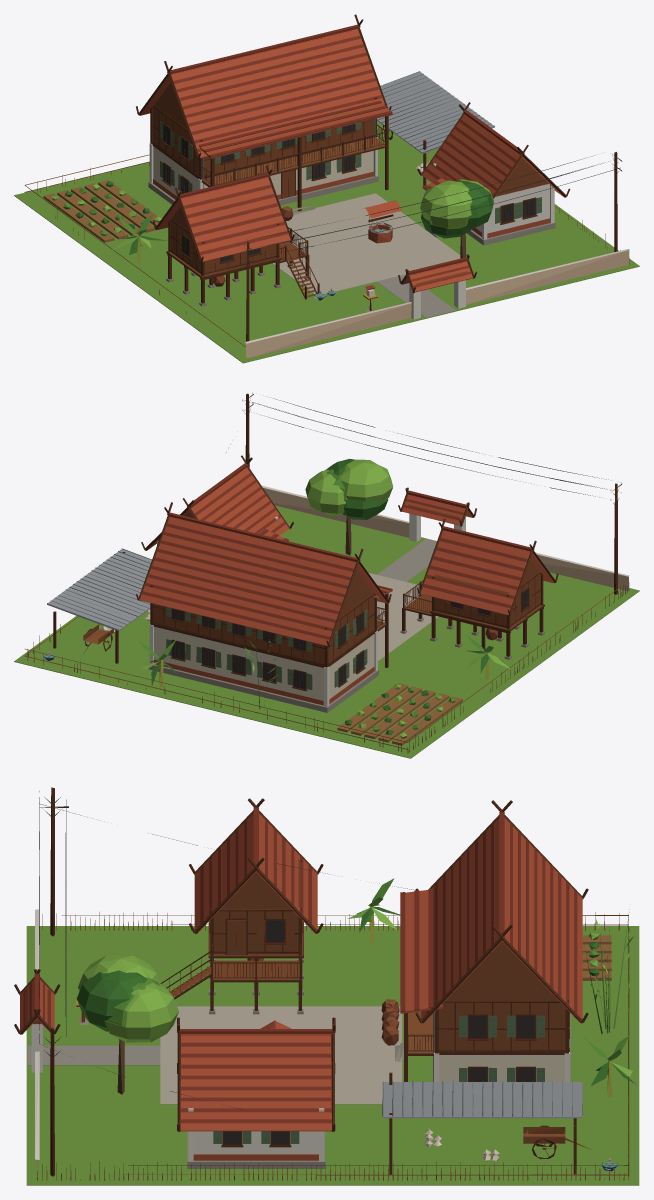
File: home_5.glb
3 views of the same model, one above another, from view 1: azimuth 30°, elevation 25°; view 2: azimuth 150°, elevation 25°; view 3: azimuth 270°, elevation 25° (orthographic). The views are drawn at different scales.
Visible parts, largest first — view 1: body, windows; view 2: body, windows; view 3: body, windows.
Boxes of the visible parts, x1,y1,x2,y2 form: body: [14, 14, 639, 363]; windows: [163, 124, 535, 261]; body: [14, 392, 639, 758]; windows: [172, 589, 528, 688]; body: [14, 787, 639, 1185]; windows: [223, 920, 534, 1144].
Bounding box in the file's own units: 32.1 × 11.18 × 32.59.
